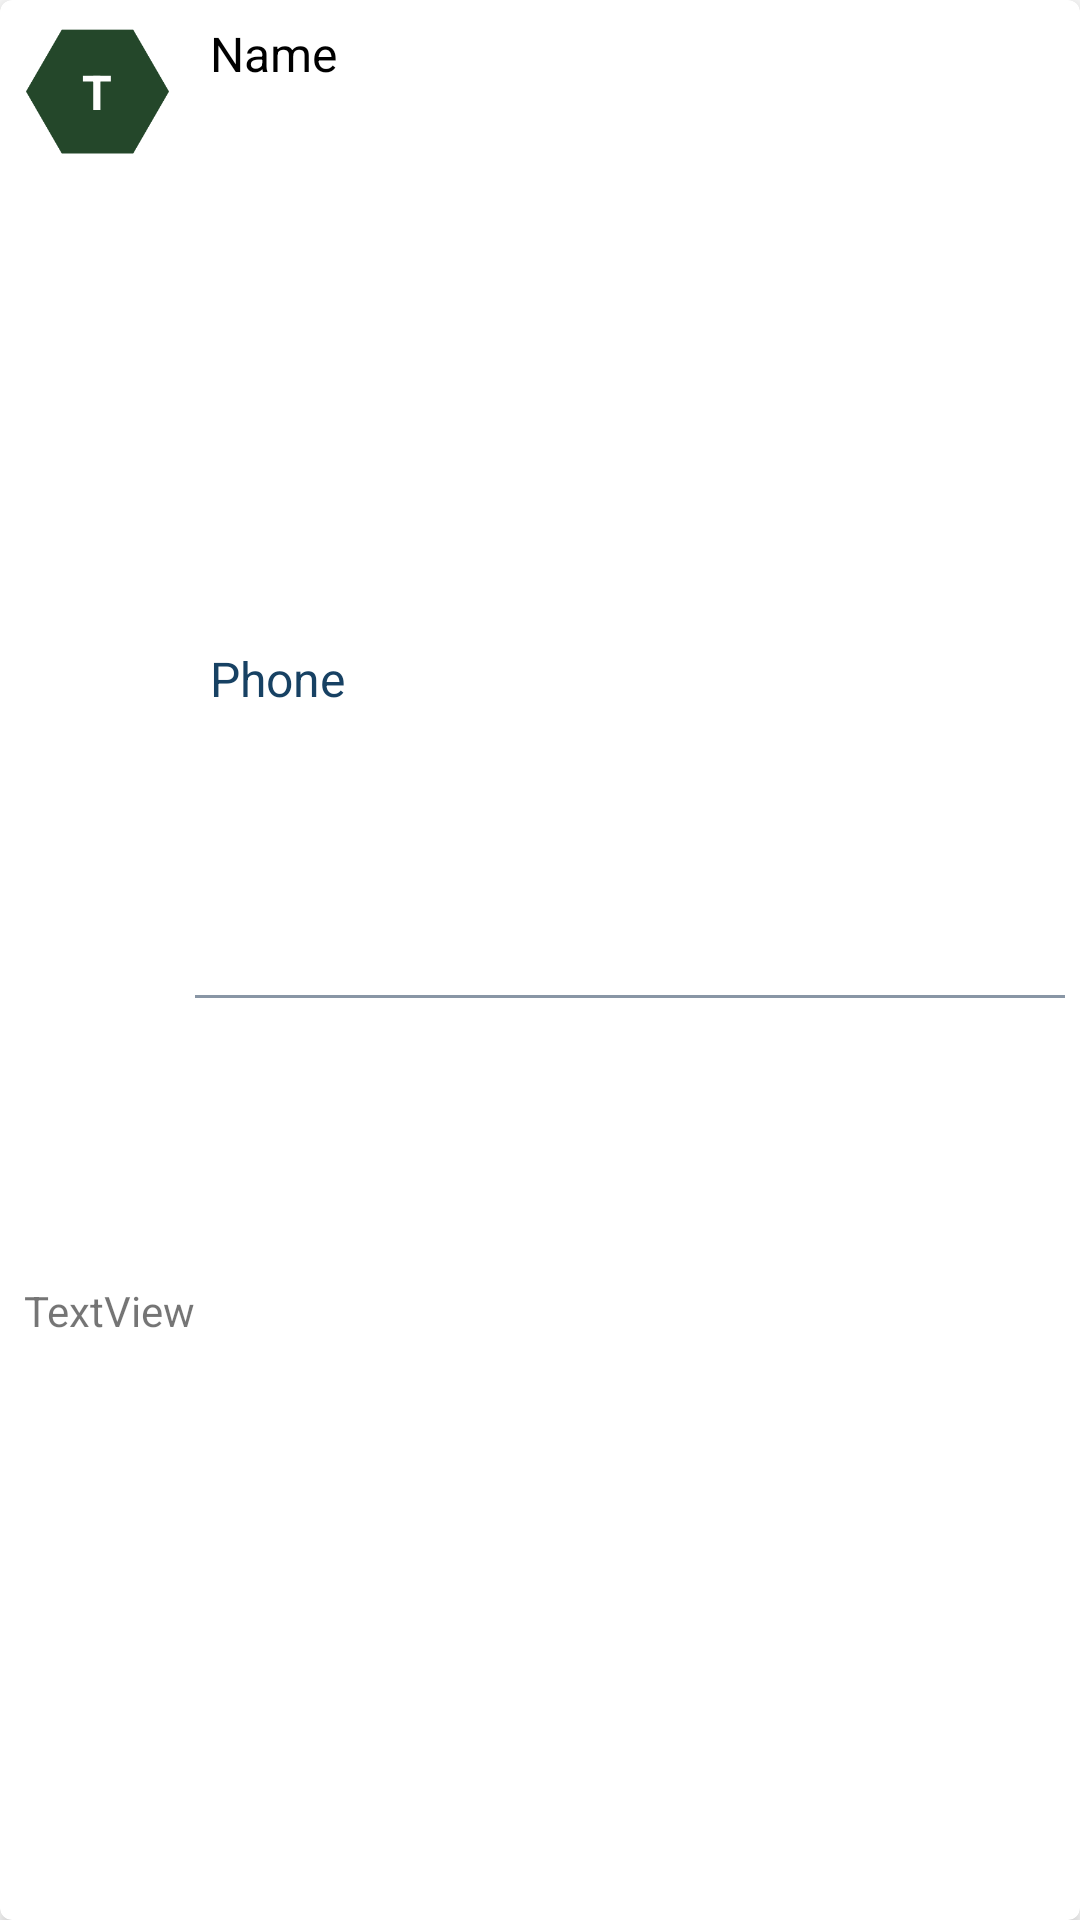

Where to tap for icons on this 1080*1920 app screen, as (x=x, y=y):
hexagon: (x=97, y=91)
